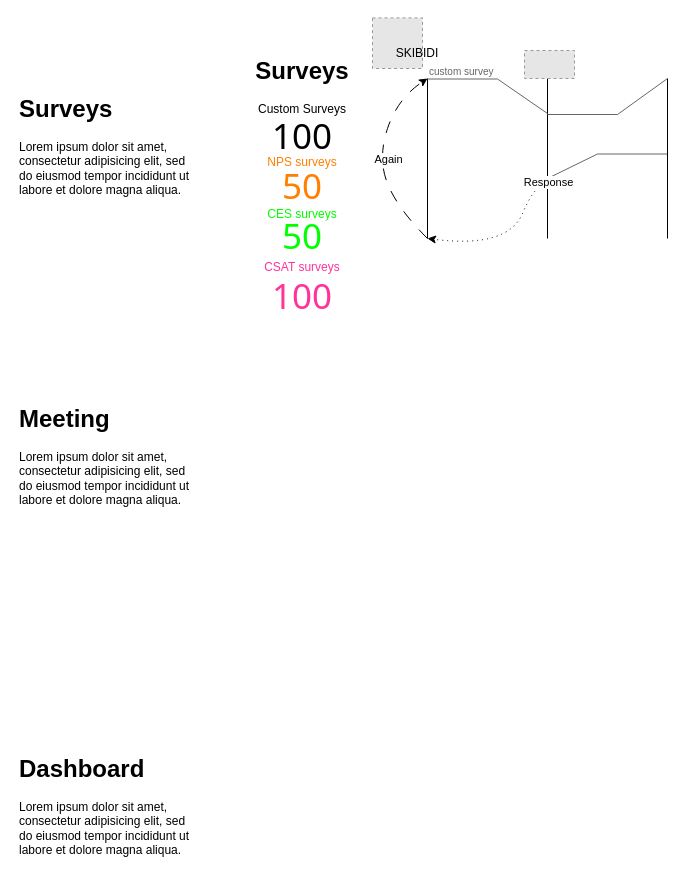
This 686x889 diagram has some shape labels left out. Grey dashed boxes stand in for pictures. Each missing label, with the centre of its shape:
Client: (607,153)
sent receiver/s: (607,96)
